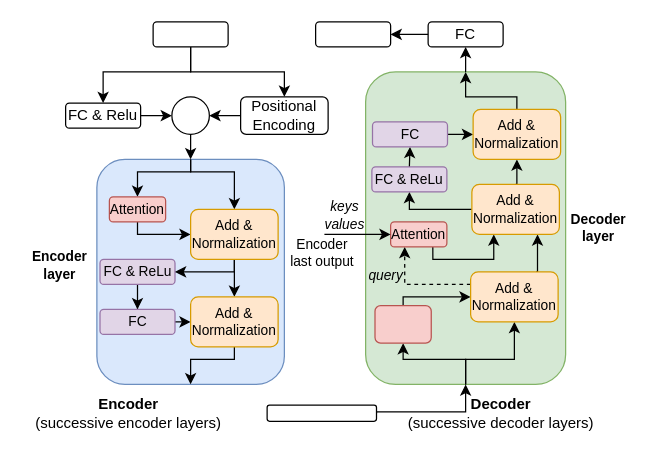
Some shapes in this 656 by 454 pixel diagram are drawn without their labels. Here are the shapes that lost their labels. From the top down, the centre of each, then its label:
At point (190, 34): "input".
At point (352, 34): "output".
At point (190, 115): "Add".
At point (402, 323): "Masked Attention".
At point (321, 412): "Decoder Inputs".
